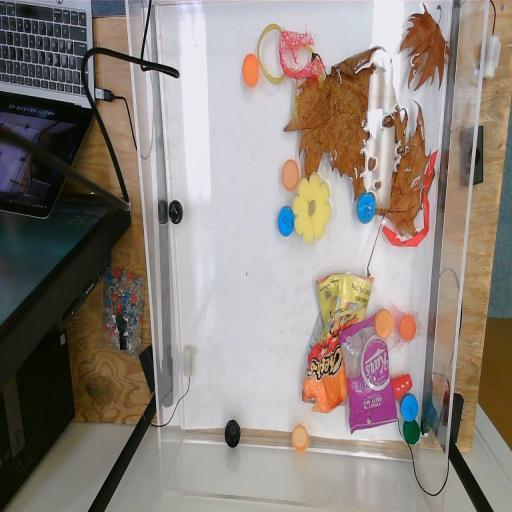Bottle Cap: (356, 192, 376, 224), (242, 53, 260, 88), (374, 308, 394, 339), (282, 158, 300, 192), (224, 418, 241, 449), (292, 424, 309, 454), (400, 394, 418, 422), (278, 206, 294, 237), (400, 314, 416, 342), (404, 420, 420, 446), (168, 200, 183, 225)
Cone Cap: (390, 372, 414, 402)
Leaf: (282, 44, 386, 202), (364, 57, 432, 277), (397, 0, 452, 94)
Netting: (277, 24, 327, 82), (387, 301, 426, 355)
Plastic Bag: (301, 272, 375, 414), (338, 311, 396, 435)
Plastic Strand: (257, 21, 325, 123), (382, 150, 438, 248)
Sponge: (292, 172, 332, 244)
